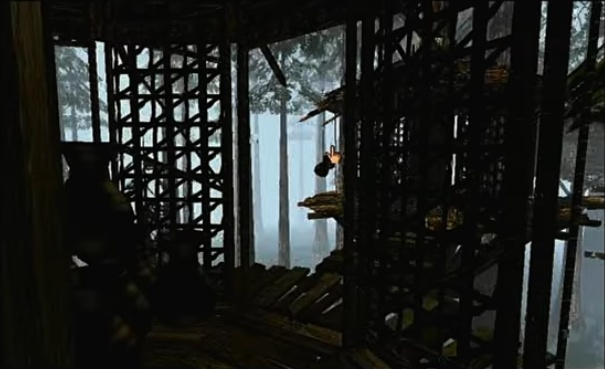Pointer: (322, 142, 347, 166)
